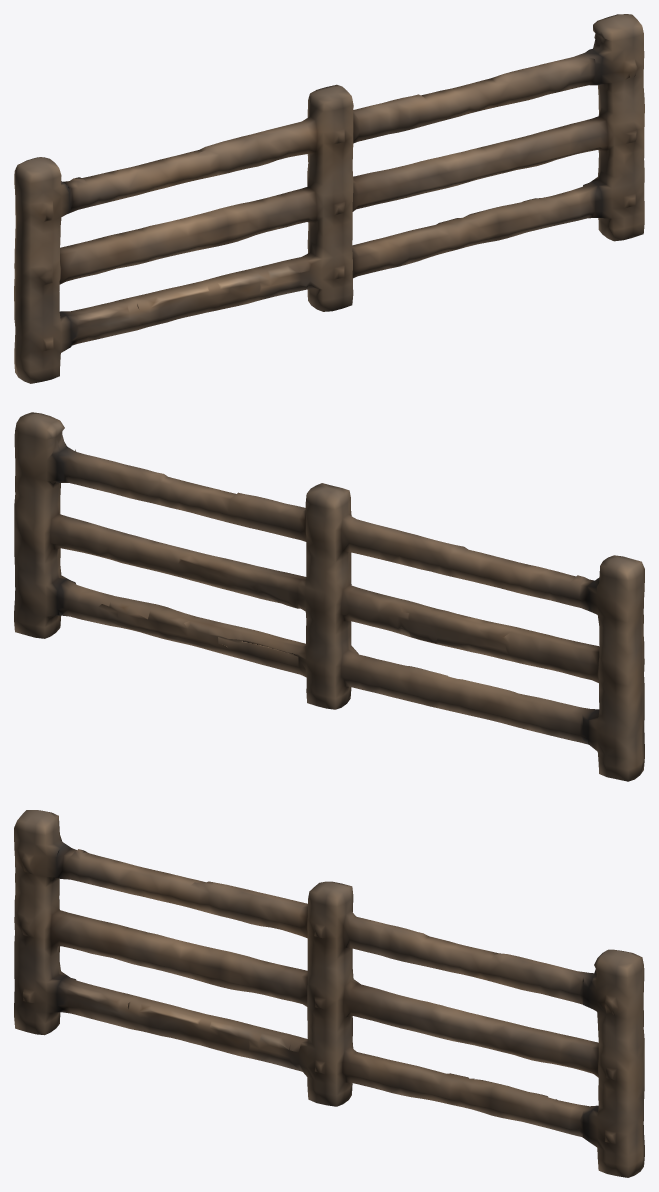
File: zaun_rustikal.glb
3 views of the same model, one above another, from view 1: azimuth 30°, elevation 25°; view 2: azimuth 150°, elevation 25°; view 3: azimuth 330°, elevation 25° (orthographic).
Size of the model in its own units: 1.9 by 0.64 by 0.1207.
